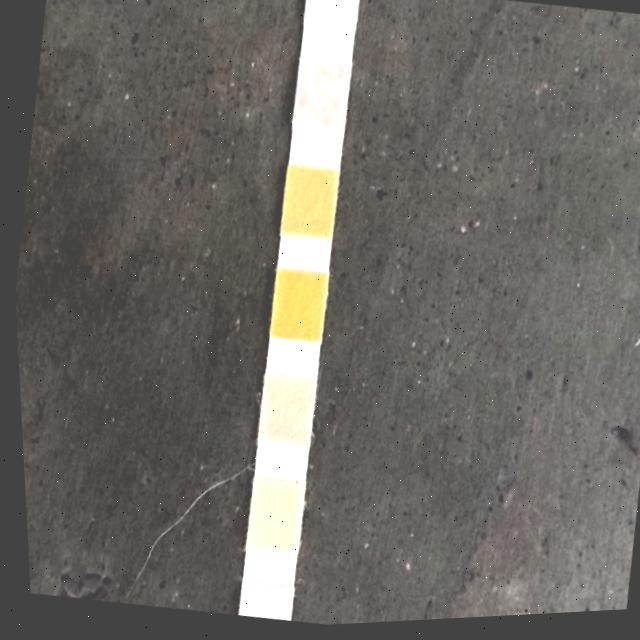Bilirubin: (302, 0, 361, 36)
Blood: (263, 270, 327, 348)
Ketone: (290, 62, 354, 139)
Protein: (240, 481, 304, 558)
SpGravity: (275, 167, 339, 244)
Urobilinogen: (232, 585, 289, 626)
pH: (252, 374, 316, 451)
